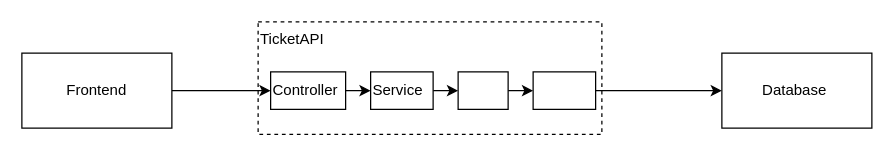
The diagram is 894 pixels wide and 156 high, and some of its shapes have lost their labels. Each missing label, with the centre of its shape:
Domain: the point at 564,90
Repo: the point at 482,90
